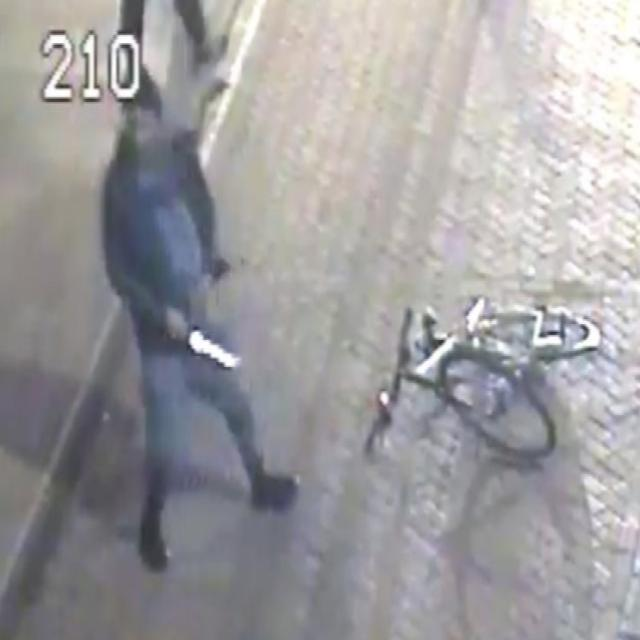Knife_Handle: (165, 304, 241, 369)
